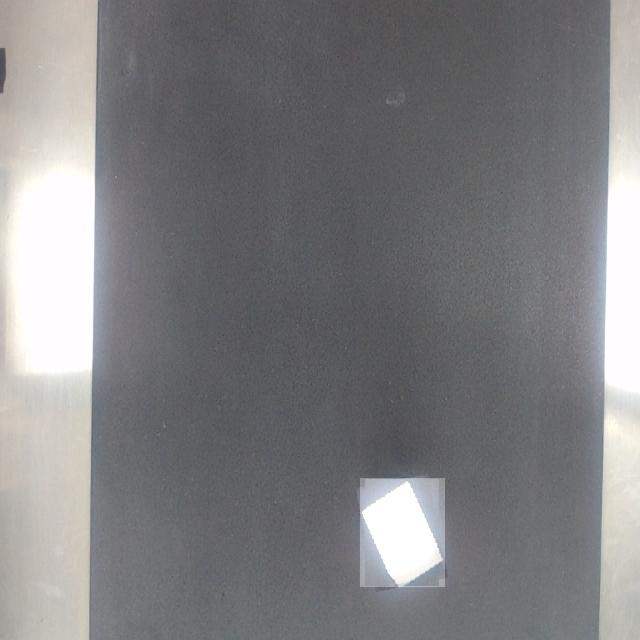Blanco: (361, 479, 445, 587)
